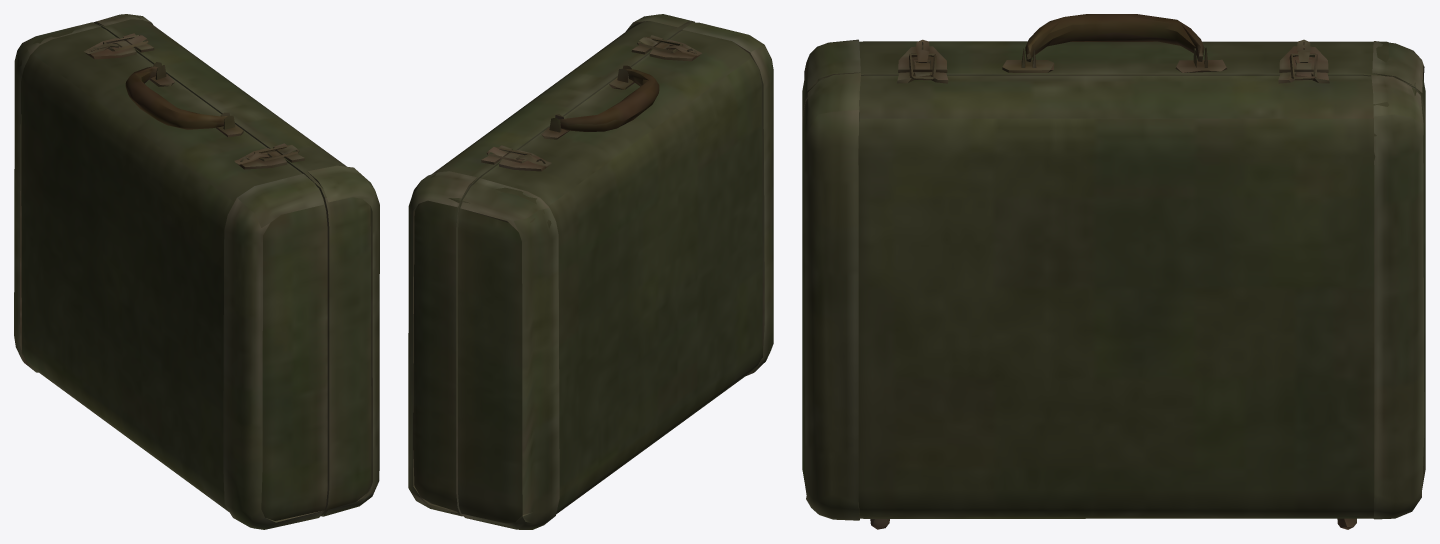
File: suitcase-vintage.lod1.glb
3 views of the same model, side by side, from view 1: azimuth 30°, elevation 25°; view 2: azimuth 150°, elevation 25°; view 3: azimuth 270°, elevation 25° (orthographic). The views are drawn at different scales.
Parts seen in each view (by area): view 1: suitcase-vintage; view 2: suitcase-vintage; view 3: suitcase-vintage.
Part boxes in pixels (bbox=[...]): suitcase-vintage: bbox=[14, 14, 379, 529]; suitcase-vintage: bbox=[408, 14, 773, 529]; suitcase-vintage: bbox=[802, 14, 1425, 529].
Size of the model in its own units: 0.2384 by 0.5682 by 0.6934.
Materials: 1 (1 with a texture image).
